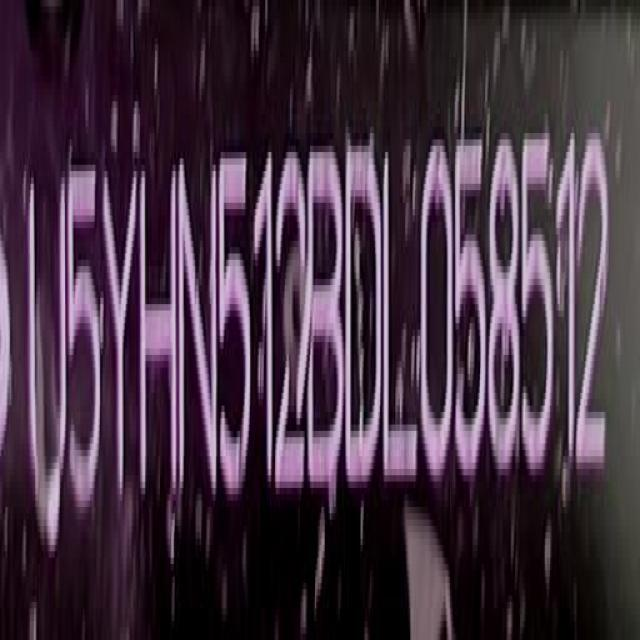0: (418, 138, 454, 493)
1: (254, 143, 276, 491), (555, 129, 576, 479)
2: (274, 148, 308, 504), (576, 129, 610, 474)
5: (453, 122, 489, 502), (66, 152, 102, 524), (218, 148, 254, 504), (521, 129, 554, 479)
8: (488, 136, 522, 476)
B: (308, 136, 345, 507)
D: (343, 138, 382, 496)
H: (135, 143, 179, 505)
L: (380, 129, 420, 505)
N: (177, 155, 219, 502)
U: (27, 155, 68, 530)
Y: (101, 147, 138, 518)
